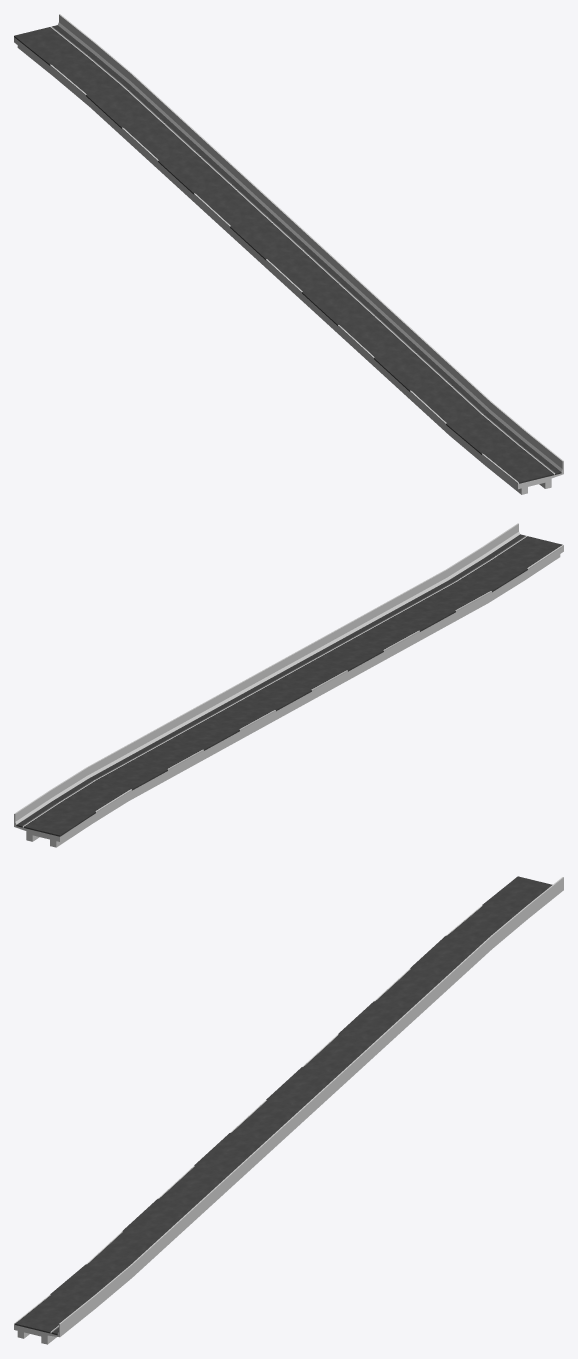
The model's file is 【組立式】高速道路(下り勾配_左)_W4.2m×D70m×H6m.fbx.
3 renders of one model, top to bottom at view 1: azimuth 30°, elevation 25°; view 2: azimuth 150°, elevation 25°; view 3: azimuth 330°, elevation 25°, orthographic.
Parts seen in each view (by area): view 1: 道路, 高架橋; view 2: 道路, 高架橋; view 3: 道路, 高架橋.
Boxes of the visible parts, x1=… form: 道路: x1=14, y1=25, x2=561, y2=483; 高架橋: x1=14, y1=14, x2=563, y2=494; 道路: x1=16, y1=534, x2=563, y2=836; 高架橋: x1=14, y1=523, x2=563, y2=847; 道路: x1=14, y1=876, x2=552, y2=1335; 高架橋: x1=14, y1=877, x2=563, y2=1344.
Size of the model in its own units: 3.7 by 7.8 by 70.
